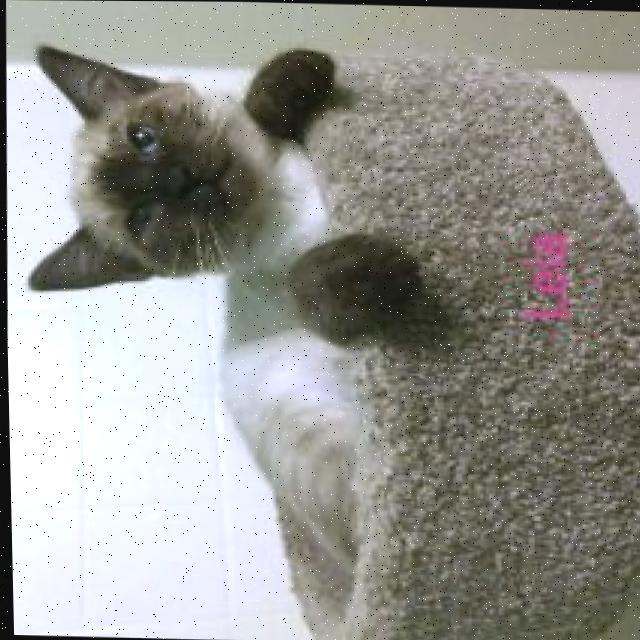Siamese: (6, 35, 425, 574)
